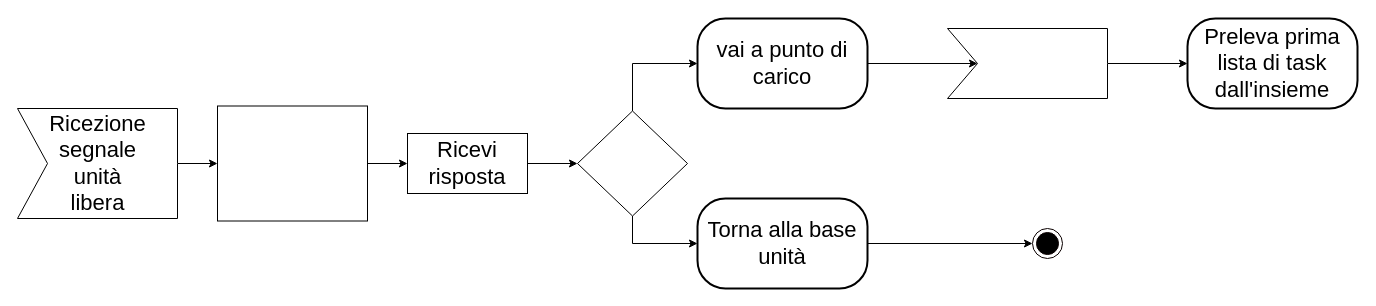
Some shapes in this 1376 by 306 pixel diagram are drawn without their labels. The shapes that lost their labels are listed below. From the top down, each one's centre as x and y in pixels, then its label:
At (1027,63): "task disponibili".
At (292,163): "Chiedi operatore se fine turno".
